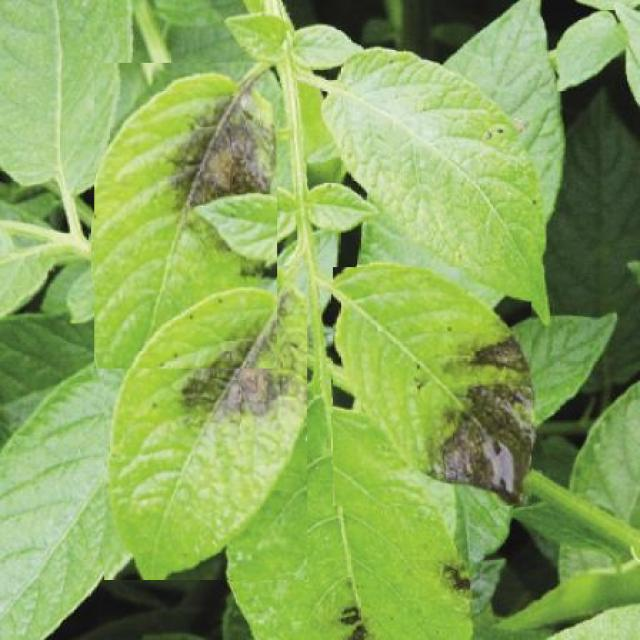Late Blight: (104, 266, 307, 580), (95, 64, 278, 369), (333, 267, 531, 506)
